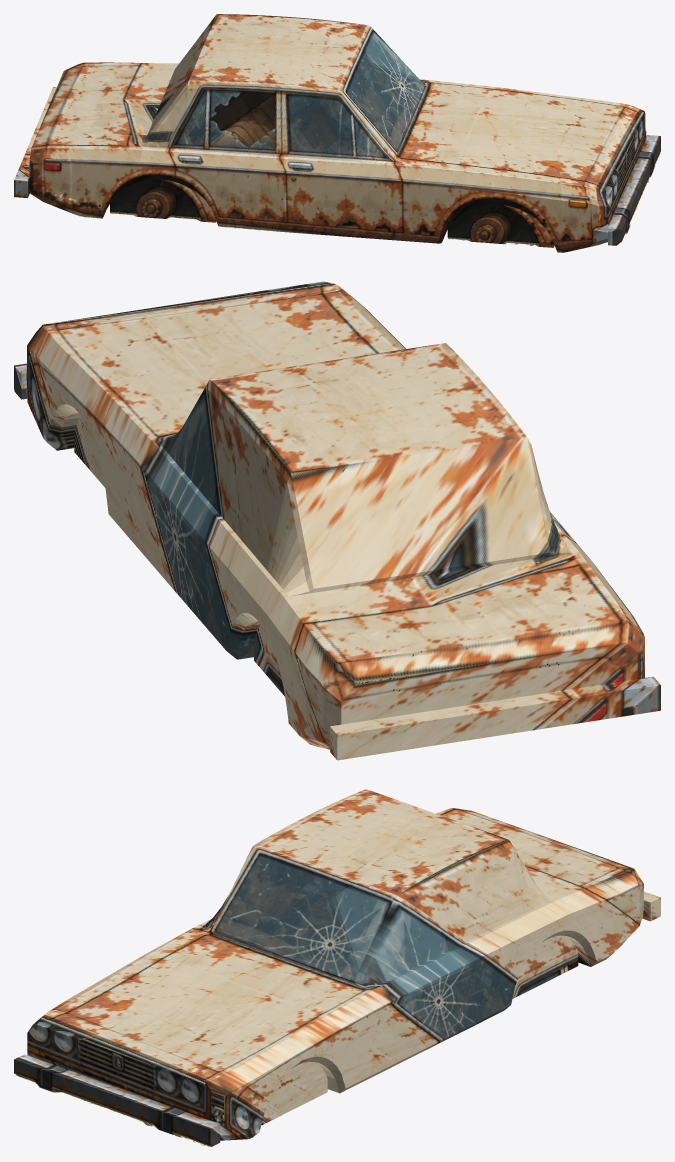
Rendered from vaz2106.glb.
3 renders of one model, top to bottom at view 1: azimuth 30°, elevation 25°; view 2: azimuth 150°, elevation 25°; view 3: azimuth 270°, elevation 25°, orthographic. The views are drawn at different scales.
Visible parts, largest first — view 1: vaz2106_game; view 2: vaz2106_game; view 3: vaz2106_game.
Boxes of the visible parts, x1,y1,x2,y2 form: vaz2106_game: (14,14,660,252); vaz2106_game: (14,281,660,760); vaz2106_game: (14,789,660,1146).
Bounding box in the file's own units: 4.37 × 1.05 × 4.03.
1 material, 1 textured.
